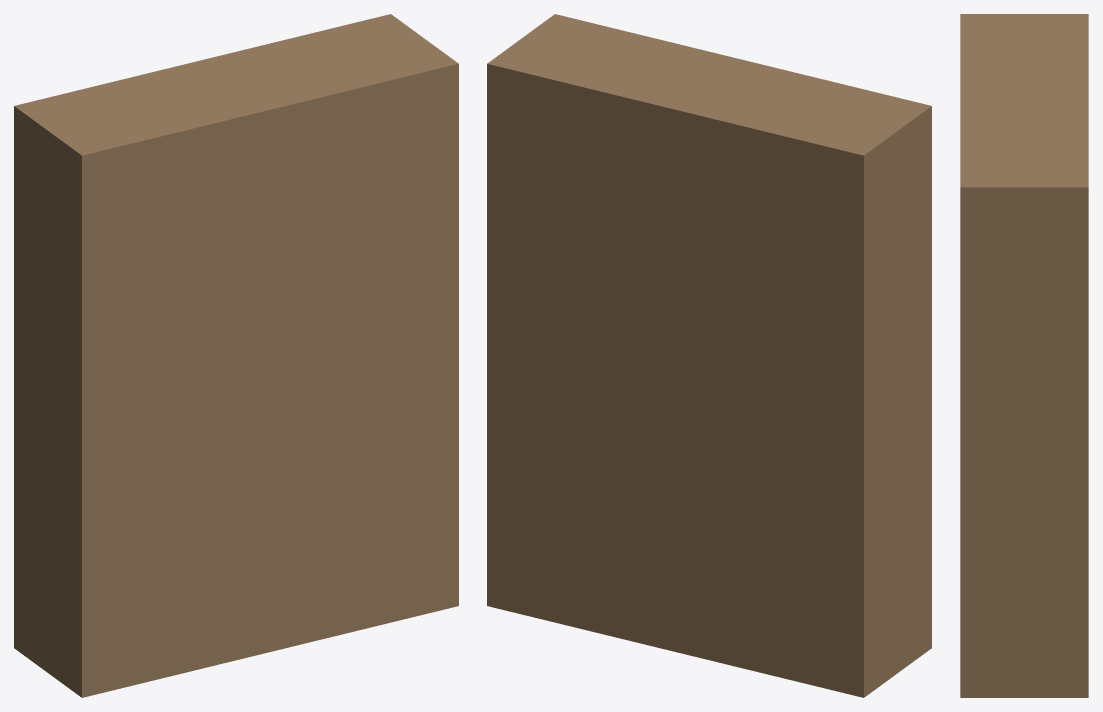
The model's file is bookshelf.glb.
3 views of the same model, side by side, from view 1: azimuth 30°, elevation 25°; view 2: azimuth 150°, elevation 25°; view 3: azimuth 270°, elevation 25° (orthographic). The views are drawn at different scales.
Parts seen in each view (by area): view 1: bookshelf; view 2: bookshelf; view 3: bookshelf.
Part boxes in pixels (x1=…): bookshelf: x1=14, y1=14, x2=458, y2=697; bookshelf: x1=487, y1=14, x2=931, y2=697; bookshelf: x1=960, y1=14, x2=1088, y2=697.
Bounding box in the file's own units: 0.8 × 1.1 × 0.25.
